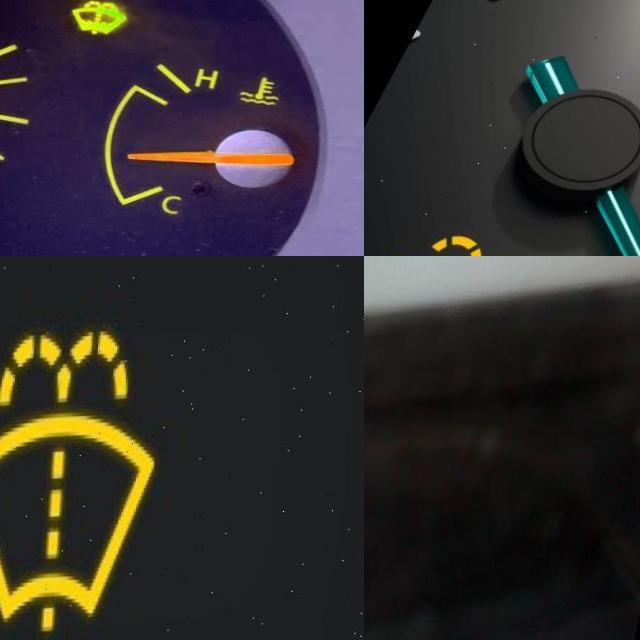High Engine Coolant Temperature: (241, 73, 282, 114)
Washer Fluid: (0, 330, 163, 636)
